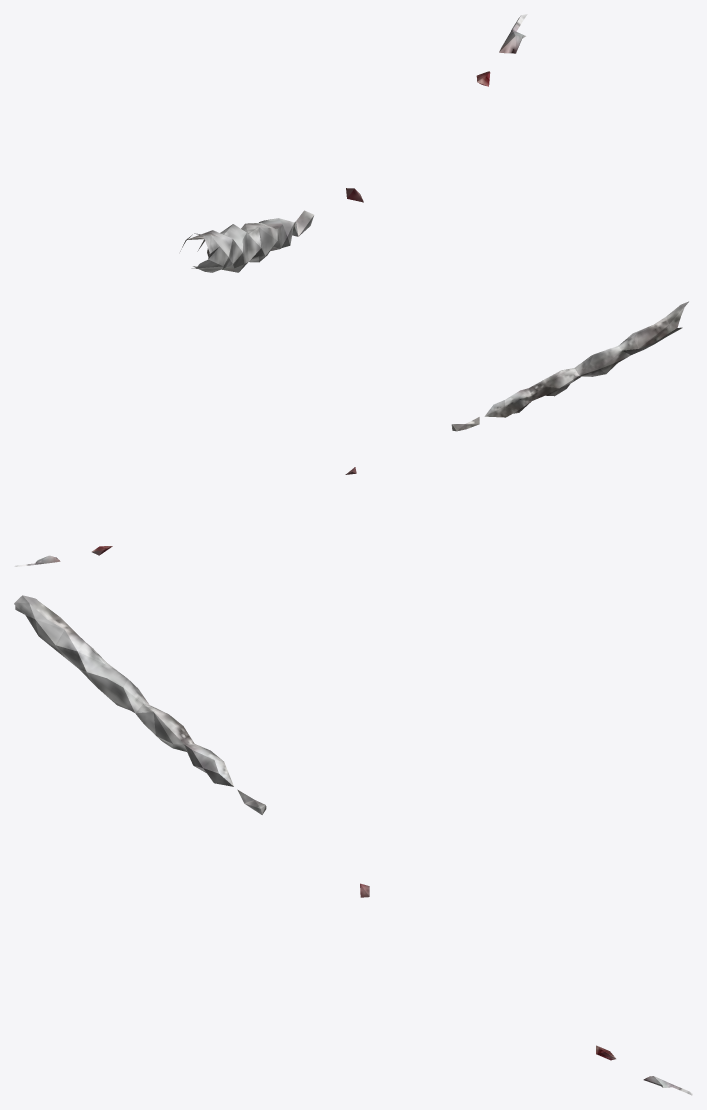
3 renders of one model, top to bottom at view 1: azimuth 30°, elevation 25°; view 2: azimuth 150°, elevation 25°; view 3: azimuth 270°, elevation 25°, orthographic. The views are drawn at different scales.
Bounding box in the file's own units: 0.6721 × 0.2747 × 0.7232.
1 material, 1 textured.
